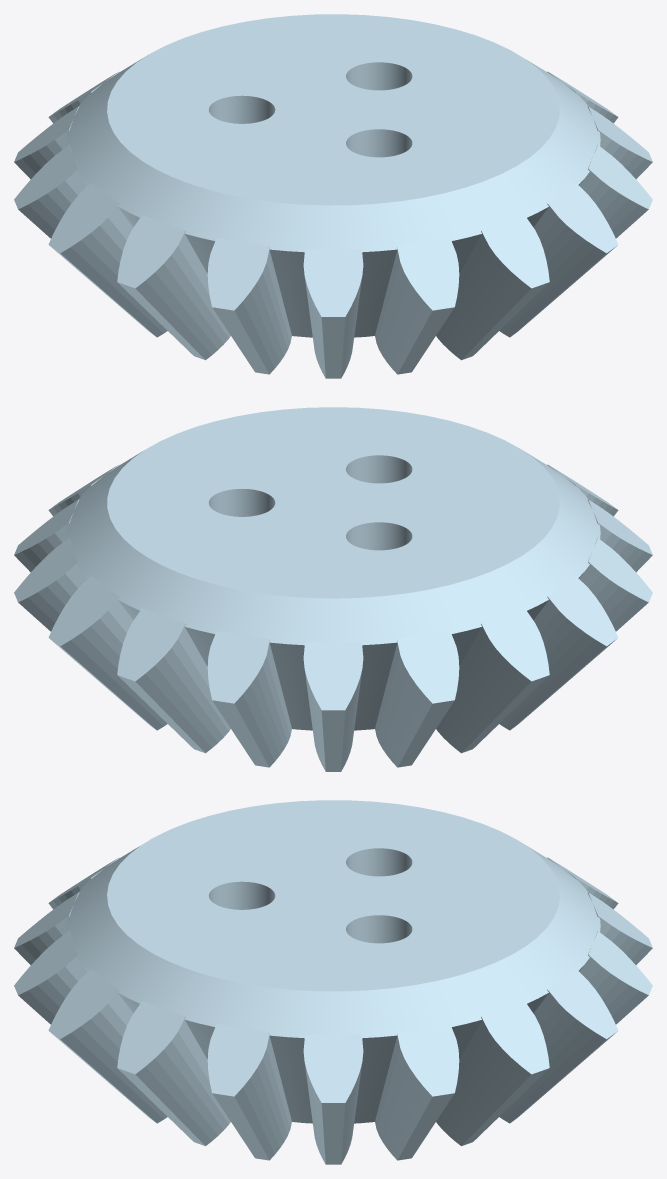
3 views of the same model, one above another, from view 1: azimuth 30°, elevation 25°; view 2: azimuth 150°, elevation 25°; view 3: azimuth 270°, elevation 25° (orthographic).
Parts seen in each view (by area): view 1: mesh1202, mesh1511, mesh1253, mesh1236, mesh1270, mesh1287, mesh1524, mesh1304, mesh1508, mesh1219, mesh1220, mesh1321 (+37 smaller); view 2: mesh1202, mesh1511, mesh1355, mesh1338, mesh1372, mesh1321, mesh1389, mesh1304, mesh1406, mesh1213, mesh1214, mesh1287 (+37 smaller); view 3: mesh1202, mesh1511, mesh1457, mesh1440, mesh1474, mesh1423, mesh1491, mesh1406, mesh1508, mesh1207, mesh1208, mesh1389 (+37 smaller).
Part boxes in pixels (x1,y1,x2,y2): mesh1202: (107, 14, 559, 205); mesh1511: (66, 55, 600, 252); mesh1253: (303, 249, 363, 316); mesh1236: (397, 238, 459, 310); mesh1270: (207, 238, 269, 310); mesh1287: (117, 215, 185, 288); mesh1524: (481, 215, 549, 288); mesh1304: (48, 183, 118, 253); mesh1508: (548, 183, 618, 253); mesh1219: (269, 249, 312, 337); mesh1220: (354, 249, 397, 337); mesh1321: (14, 145, 78, 209); mesh1202: (107, 407, 559, 598); mesh1511: (66, 450, 600, 645); mesh1355: (303, 642, 363, 710); mesh1338: (397, 631, 459, 703); mesh1372: (207, 631, 269, 703); mesh1321: (481, 608, 549, 681); mesh1389: (117, 608, 185, 681); mesh1304: (548, 576, 618, 646); mesh1406: (48, 576, 118, 646); mesh1213: (269, 642, 312, 730); mesh1214: (354, 642, 397, 730); mesh1287: (588, 538, 652, 602); mesh1202: (107, 800, 559, 991); mesh1511: (66, 843, 600, 1038); mesh1457: (303, 1034, 363, 1102); mesh1440: (397, 1024, 459, 1096); mesh1474: (207, 1024, 269, 1096); mesh1423: (481, 1001, 549, 1074); mesh1491: (117, 1001, 185, 1074); mesh1406: (548, 969, 618, 1039); mesh1508: (48, 969, 118, 1039); mesh1207: (269, 1035, 312, 1123); mesh1208: (354, 1035, 397, 1123); mesh1389: (588, 931, 652, 995).
Bounding box in the file's own units: 0.0194 × 0.00601 × 0.0192.
